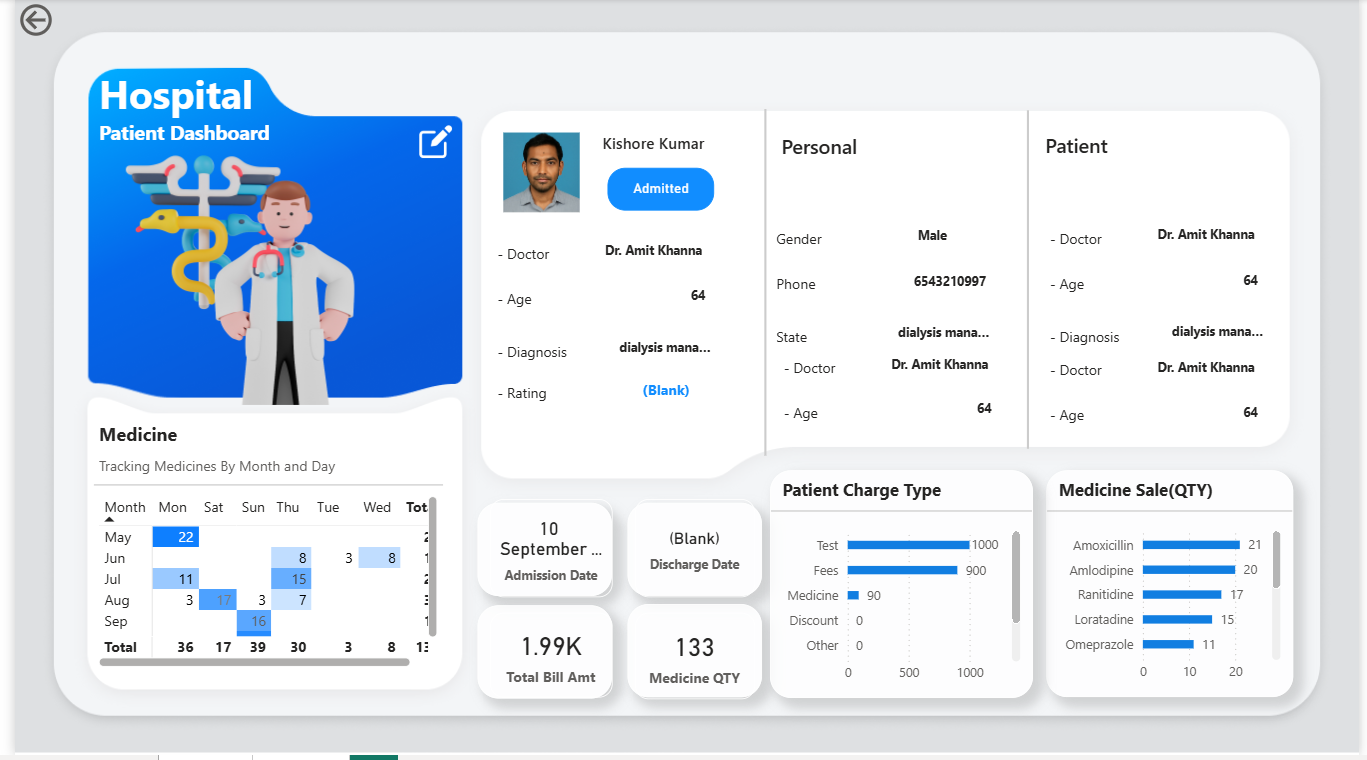

Layout of this report page (visuals, bound fields, positions):
{"tool":"powerbi","page":{"name":"Page 1","canvas":[1280,720],"ordinal":0},"visuals":[{"type":"shape","box":[441,480,128,89],"z":0},{"type":"shape","box":[441,577.4,128,89],"z":1000},{"type":"shape","box":[583,480,128,89],"z":2000},{"type":"shape","box":[583,576,128,89],"z":3000},{"type":"image","box":[85.1,124.9,266.2,266.2],"z":4000},{"type":"textbox","box":[75.5,59,397.9,279.9],"z":5000},{"type":"image","box":[371.9,115.3,59,41.2],"z":6000},{"type":"pivotTable","title":"Medicine ","fields":{"Values":["Sum(medicine_patient.qty)"],"Columns":["Calendar.Day"],"Rows":["Calendar.Month"]},"box":[75.1,402.1,332.5,237.9],"z":8000},{"type":"clusteredBarChart","title":"Medicine Sale(QTY)","fields":{"Y":["Sum(medicine_patient.qty)"],"Category":["medical_stock_info.name"]},"box":[982.3,449.4,235.1,215.7],"z":9000},{"type":"clusteredBarChart","title":"Patient Charge Type","fields":{"Category":["Bills.Charge_Type"],"Y":["Sum(Bills.Value)"]},"box":[719.3,449.4,250.4,217],"z":10000},{"type":"card","fields":{"Values":["_Measures.Total_Bill_Amt"]},"box":[452.2,584.3,116.9,80.7],"z":11000},{"type":"card","fields":{"Values":["_Measures.Total_Med_Sale_QTY"]},"box":[589.9,584.3,114.1,82.1],"z":12000},{"type":"card","fields":{"Values":["Min(patient_info.patient_admission_date)"]},"box":[452.2,475.8,116.9,93.2],"z":13000},{"type":"card","fields":{"Values":["Min(patient_info.patient_discharge_date)"]},"box":[589.9,475.8,114.1,93.2],"z":14000},{"type":"actionButton","box":[0,0,100,40],"z":15000},{"type":"cardVisual","fields":{"Data":["Min(patient_info.patient_Img)"]},"box":[452.4,104.8,102.4,109.5],"z":16000},{"type":"card","fields":{"Values":["Min(patient_info.patient_name)"]},"box":[549.9,119.2,116.7,41],"z":17000},{"type":"card","fields":{"Values":["Min(patient_info.patient_status)"]},"box":[564.8,160.1,101.8,41],"z":18000},{"type":"shape","title":"- Doctor","box":[459.5,233.3,88.1,25],"z":19000},{"type":"shape","title":"- Age","box":[459.5,276.2,88.1,25],"z":20000},{"type":"shape","title":"- Diagnosis","box":[459.5,326.2,88.1,25],"z":21000},{"type":"card","fields":{"Values":["Min(patient_info.doctor_name)"]},"box":[549.9,225.9,116.7,32.3],"z":22000},{"type":"card","fields":{"Values":["Sum(patient_info.patient_age)"]},"box":[614.4,268.1,52.1,33.5],"z":23000},{"type":"card","fields":{"Values":["Min(appointment.diagnosis)"]},"box":[553.6,317.8,116.7,33.5],"z":24000},{"type":"card","fields":{"Values":["_Measures.Sum of satisfaction_rating star rating"]},"box":[573.5,360,93.1,31],"z":25000},{"type":"shape","title":"- Rating","box":[459.8,365.8,88.2,26],"z":26000},{"type":"card","fields":{"Values":["Min(patient_info.satisfaction_feedback)"]},"box":[451.8,392.2,218.5,57.1],"z":27000},{"type":"shape","box":[589.6,104.3,250.7,330.2],"z":28000},{"type":"shape","box":[852.8,105.5,224.7,322.7],"z":29000},{"type":"shape","title":"- Doctor","box":[731.7,341.6,88.1,25],"z":30000},{"type":"shape","title":"- Age","box":[731.7,384.5,88.1,25],"z":31000},{"type":"card","fields":{"Values":["Min(patient_info.doctor_name)"]},"box":[822.1,334.2,116.7,32.3],"z":33000},{"type":"card","fields":{"Values":["Sum(age.patient_age)"]},"box":[886.6,376.4,52.1,33.5],"z":34000},{"type":"shape","title":"- Doctor","box":[985.9,218.5,88.1,25],"z":36000},{"type":"shape","title":"- Age","box":[985.9,261.4,88.1,25],"z":37000},{"type":"shape","title":"- Diagnosis","box":[985.9,311.4,88.1,25],"z":38000},{"type":"card","fields":{"Values":["Min(patient_info.doctor_name)"]},"box":[1076.3,211.1,116.7,32.3],"z":39000},{"type":"card","fields":{"Values":["Sum(patient_info.patient_age)"]},"box":[1140.8,253.3,52.1,33.5],"z":40000},{"type":"card","fields":{"Values":["Min(appointment.diagnosis)"]},"box":[1080,302.9,116.7,33.5],"z":41000},{"type":"shape","title":"- Doctor","box":[985.9,344.6,88.1,25],"z":42000},{"type":"shape","title":"- Age","box":[985.9,387.5,88.1,25],"z":43000},{"type":"card","fields":{"Values":["Min(patient_info.doctor_name)"]},"box":[1076.3,337.2,116.7,32.3],"z":45000},{"type":"card","fields":{"Values":["Sum(patient_info.patient_age)"]},"box":[1140.8,379.4,52.1,33.5],"z":46000},{"type":"shape","title":"Gender","box":[724.7,219.5,88.1,25],"z":48000},{"type":"shape","title":"Phone","box":[724.7,262.4,88.1,25],"z":49000},{"type":"shape","title":"State","box":[724.7,312.4,88.1,25],"z":50000},{"type":"card","fields":{"Values":["Min(patient_info.patient_gender)"]},"box":[815.1,212.1,116.7,32.3],"z":51000},{"type":"card","fields":{"Values":["Min(age.doctor_phone)"]},"box":[828.6,254.8,103.6,33.3],"z":52000},{"type":"card","fields":{"Values":["Min(appointment.diagnosis)"]},"box":[818.8,303.9,116.7,33.5],"z":53000},{"type":"textbox","box":[724.9,122.9,207.3,42.2],"z":54000},{"type":"textbox","box":[975.7,121.6,207.3,42.2],"z":55000}]}

Visuals, with their boxes in screenshot pixels (x1, y1, x2, y2), scaled from the page's 1280x720 canvas onto the 1367x760 screenshot:
shape: {"x1": 471, "y1": 507, "x2": 608, "y2": 601}
shape: {"x1": 471, "y1": 609, "x2": 608, "y2": 703}
shape: {"x1": 623, "y1": 507, "x2": 759, "y2": 601}
shape: {"x1": 623, "y1": 608, "x2": 759, "y2": 702}
image: {"x1": 91, "y1": 132, "x2": 375, "y2": 413}
textbox: {"x1": 81, "y1": 62, "x2": 506, "y2": 358}
image: {"x1": 397, "y1": 122, "x2": 460, "y2": 165}
"Medicine " pivotTable: {"x1": 80, "y1": 424, "x2": 435, "y2": 676}
"Medicine Sale(QTY)" clusteredBarChart: {"x1": 1049, "y1": 474, "x2": 1300, "y2": 702}
"Patient Charge Type" clusteredBarChart: {"x1": 768, "y1": 474, "x2": 1036, "y2": 703}
card - _Measures.Total_Bill_Amt: {"x1": 483, "y1": 617, "x2": 608, "y2": 702}
card - _Measures.Total_Med_Sale_QTY: {"x1": 630, "y1": 617, "x2": 752, "y2": 703}
card - Min(patient_info.patient_admission_date): {"x1": 483, "y1": 502, "x2": 608, "y2": 601}
card - Min(patient_info.patient_discharge_date): {"x1": 630, "y1": 502, "x2": 752, "y2": 601}
actionButton: {"x1": 0, "y1": 0, "x2": 107, "y2": 42}
cardVisual - Min(patient_info.patient_Img): {"x1": 483, "y1": 111, "x2": 593, "y2": 226}
card - Min(patient_info.patient_name): {"x1": 587, "y1": 126, "x2": 712, "y2": 169}
card - Min(patient_info.patient_status): {"x1": 603, "y1": 169, "x2": 712, "y2": 212}
"- Doctor" shape: {"x1": 491, "y1": 246, "x2": 585, "y2": 273}
"- Age" shape: {"x1": 491, "y1": 292, "x2": 585, "y2": 318}
"- Diagnosis" shape: {"x1": 491, "y1": 344, "x2": 585, "y2": 371}
card - Min(patient_info.doctor_name): {"x1": 587, "y1": 238, "x2": 712, "y2": 273}
card - Sum(patient_info.patient_age): {"x1": 656, "y1": 283, "x2": 712, "y2": 318}
card - Min(appointment.diagnosis): {"x1": 591, "y1": 335, "x2": 716, "y2": 371}
card - _Measures.Sum of satisfaction_rating star rating: {"x1": 612, "y1": 380, "x2": 712, "y2": 413}
"- Rating" shape: {"x1": 491, "y1": 386, "x2": 585, "y2": 414}
card - Min(patient_info.satisfaction_feedback): {"x1": 483, "y1": 414, "x2": 716, "y2": 474}
shape: {"x1": 630, "y1": 110, "x2": 897, "y2": 459}
shape: {"x1": 911, "y1": 111, "x2": 1151, "y2": 452}
"- Doctor" shape: {"x1": 781, "y1": 361, "x2": 876, "y2": 387}
"- Age" shape: {"x1": 781, "y1": 406, "x2": 876, "y2": 432}
card - Min(patient_info.doctor_name): {"x1": 878, "y1": 353, "x2": 1003, "y2": 387}
card - Sum(age.patient_age): {"x1": 947, "y1": 397, "x2": 1003, "y2": 433}
"- Doctor" shape: {"x1": 1053, "y1": 231, "x2": 1147, "y2": 257}
"- Age" shape: {"x1": 1053, "y1": 276, "x2": 1147, "y2": 302}
"- Diagnosis" shape: {"x1": 1053, "y1": 329, "x2": 1147, "y2": 355}
card - Min(patient_info.doctor_name): {"x1": 1149, "y1": 223, "x2": 1274, "y2": 257}
card - Sum(patient_info.patient_age): {"x1": 1218, "y1": 267, "x2": 1274, "y2": 303}
card - Min(appointment.diagnosis): {"x1": 1153, "y1": 320, "x2": 1278, "y2": 355}
"- Doctor" shape: {"x1": 1053, "y1": 364, "x2": 1147, "y2": 390}
"- Age" shape: {"x1": 1053, "y1": 409, "x2": 1147, "y2": 435}
card - Min(patient_info.doctor_name): {"x1": 1149, "y1": 356, "x2": 1274, "y2": 390}
card - Sum(patient_info.patient_age): {"x1": 1218, "y1": 400, "x2": 1274, "y2": 436}
"Gender" shape: {"x1": 774, "y1": 232, "x2": 868, "y2": 258}
"Phone" shape: {"x1": 774, "y1": 277, "x2": 868, "y2": 303}
"State" shape: {"x1": 774, "y1": 330, "x2": 868, "y2": 356}
card - Min(patient_info.patient_gender): {"x1": 871, "y1": 224, "x2": 995, "y2": 258}
card - Min(age.doctor_phone): {"x1": 885, "y1": 269, "x2": 996, "y2": 304}
card - Min(appointment.diagnosis): {"x1": 874, "y1": 321, "x2": 999, "y2": 356}
textbox: {"x1": 774, "y1": 130, "x2": 996, "y2": 174}
textbox: {"x1": 1042, "y1": 128, "x2": 1263, "y2": 173}
